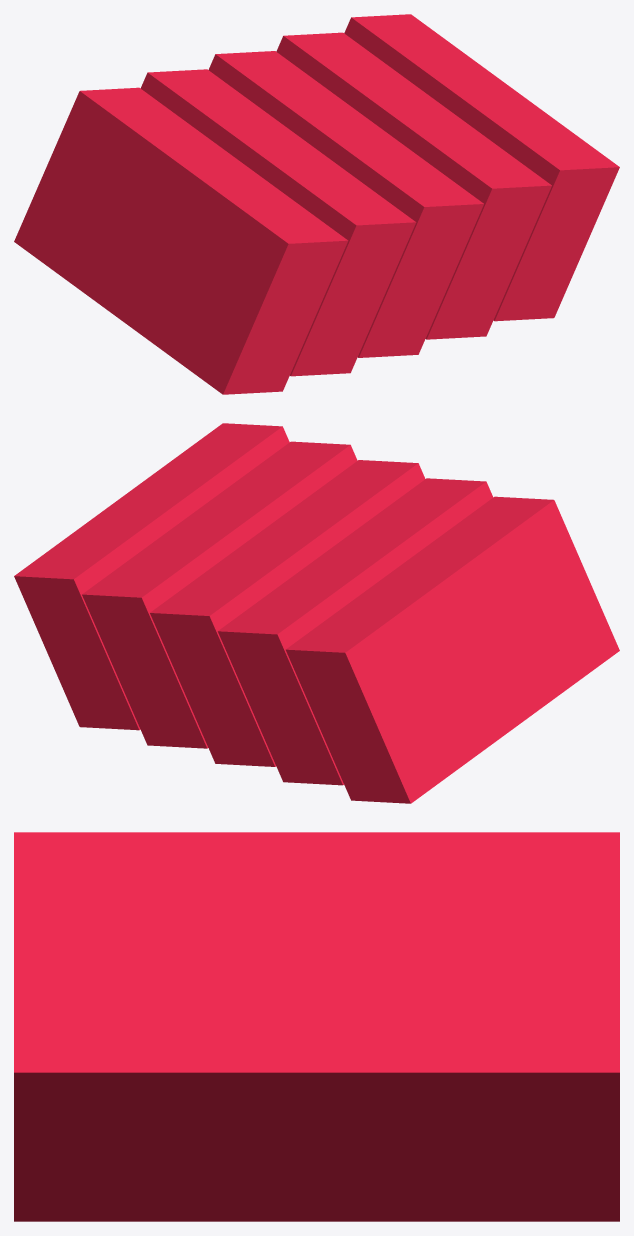
The model's file is sasimi.fbx.
3 views of the same model, one above another, from view 1: azimuth 30°, elevation 25°; view 2: azimuth 150°, elevation 25°; view 3: azimuth 270°, elevation 25° (orthographic). The views are drawn at different scales.
Visible parts, largest first — view 1: Cube; view 2: Cube; view 3: Cube.
Part boxes in pixels (left/top/right/bottom): Cube: left=14, top=14, right=619, bottom=394; Cube: left=14, top=423, right=619, bottom=803; Cube: left=14, top=832, right=619, bottom=1221.
Size of the model in its own units: 117 by 43.15 by 106.
1 material, 1 textured.
